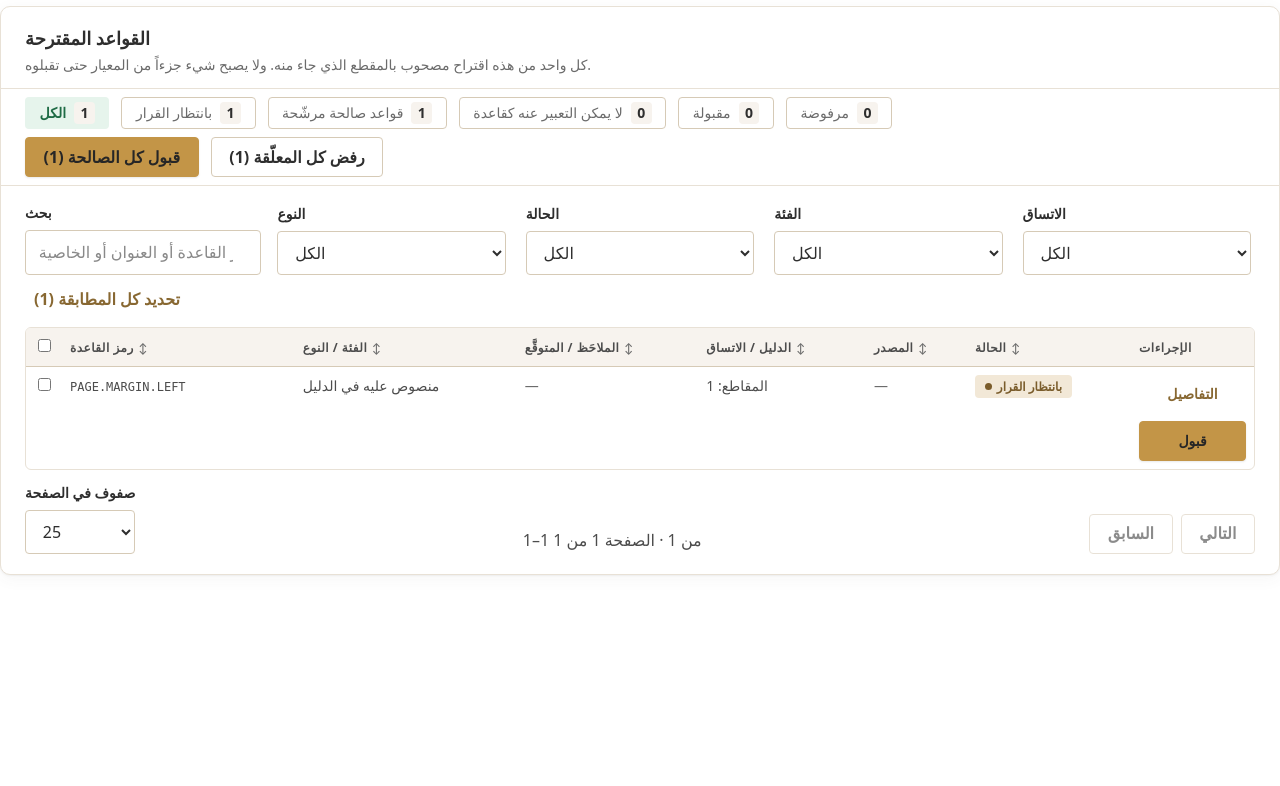
the proposal review screen › renders the review screen in Arabic
The width and height of the screenshot is (1280, 786).
Expected: the text "PAGE.MARGIN.LEFT" is shown, x1=70 y1=380 x2=186 y2=394
Expected: the heading "القواعد المقترحة" is shown, x1=25 y1=26 x2=150 y2=50
Click the button "التفاصيل". click: (1193, 395)
box: x1=1139 y1=375 x2=1246 y2=415
(page scrolled)
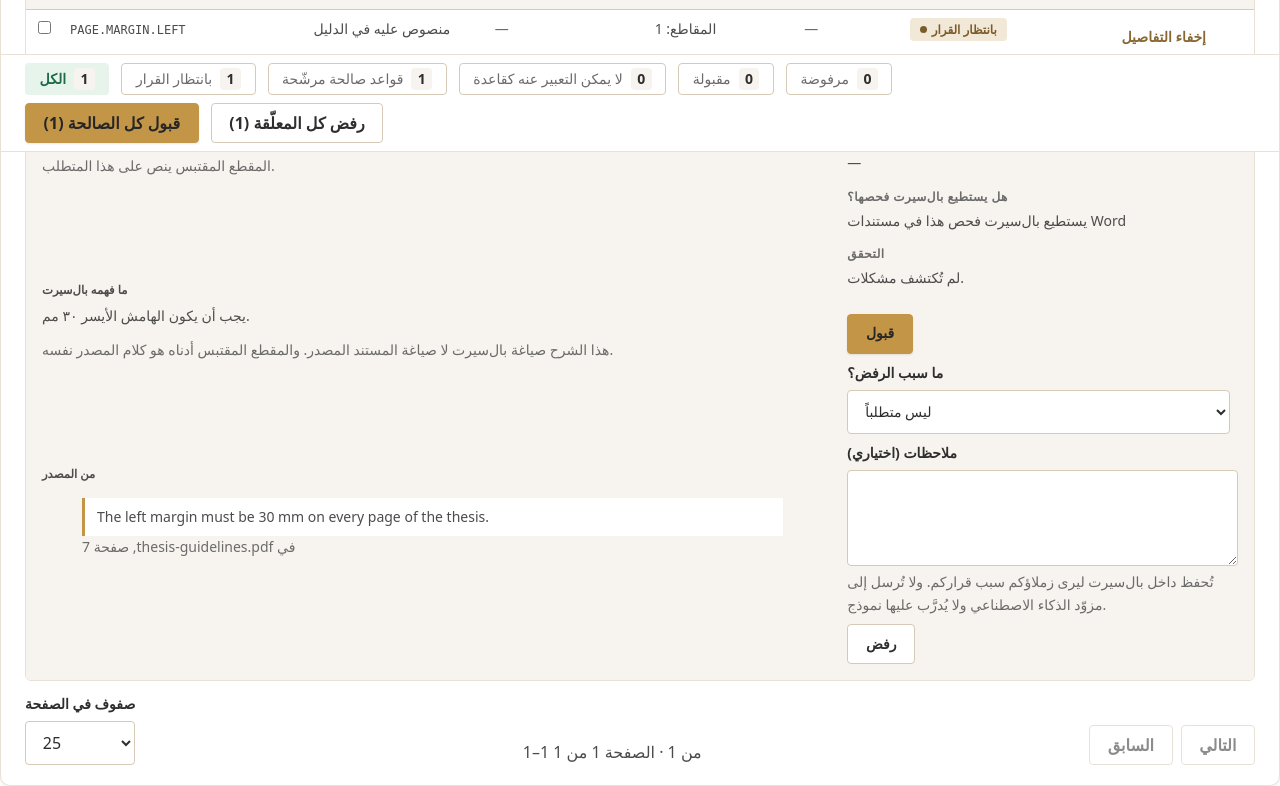
Expected: the text "يجب أن يكون الهامش الأيسر ٣٠ مم." is shown, x1=42 y1=306 x2=250 y2=325
Expected: the text "The left margin must be 30 mm on every page of the thesis." is shown, x1=82 y1=498 x2=783 y2=536
